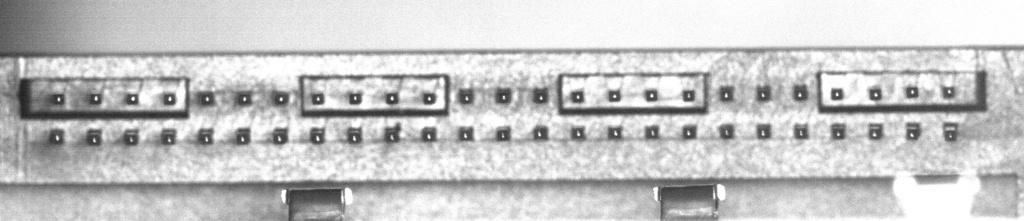pin_ok: (943, 122, 959, 141), (384, 125, 401, 142), (532, 87, 549, 103), (495, 87, 512, 103), (905, 123, 921, 140), (457, 88, 474, 104), (161, 128, 177, 145), (198, 90, 215, 106), (719, 85, 735, 101), (197, 128, 213, 144), (272, 128, 288, 144), (830, 123, 846, 139), (86, 129, 102, 145), (421, 125, 437, 141), (235, 128, 251, 144), (49, 128, 65, 144), (756, 84, 771, 101), (793, 84, 808, 100), (570, 125, 586, 140), (794, 123, 809, 139), (532, 125, 548, 140), (310, 127, 325, 143), (124, 129, 139, 145), (868, 124, 883, 140), (644, 124, 660, 139), (458, 126, 474, 141), (347, 127, 362, 143), (272, 91, 289, 105), (756, 124, 771, 139), (719, 124, 734, 139), (496, 126, 511, 141), (237, 91, 253, 105), (569, 89, 585, 103), (607, 125, 623, 139), (941, 84, 956, 98), (682, 125, 697, 139), (868, 86, 883, 100), (422, 91, 437, 105), (644, 88, 658, 102), (682, 88, 696, 102), (310, 92, 325, 105), (348, 91, 362, 104), (905, 85, 919, 98), (162, 92, 176, 105), (830, 87, 844, 100), (607, 88, 621, 101), (385, 91, 399, 104), (88, 92, 101, 105), (52, 93, 65, 104), (126, 93, 139, 104)
